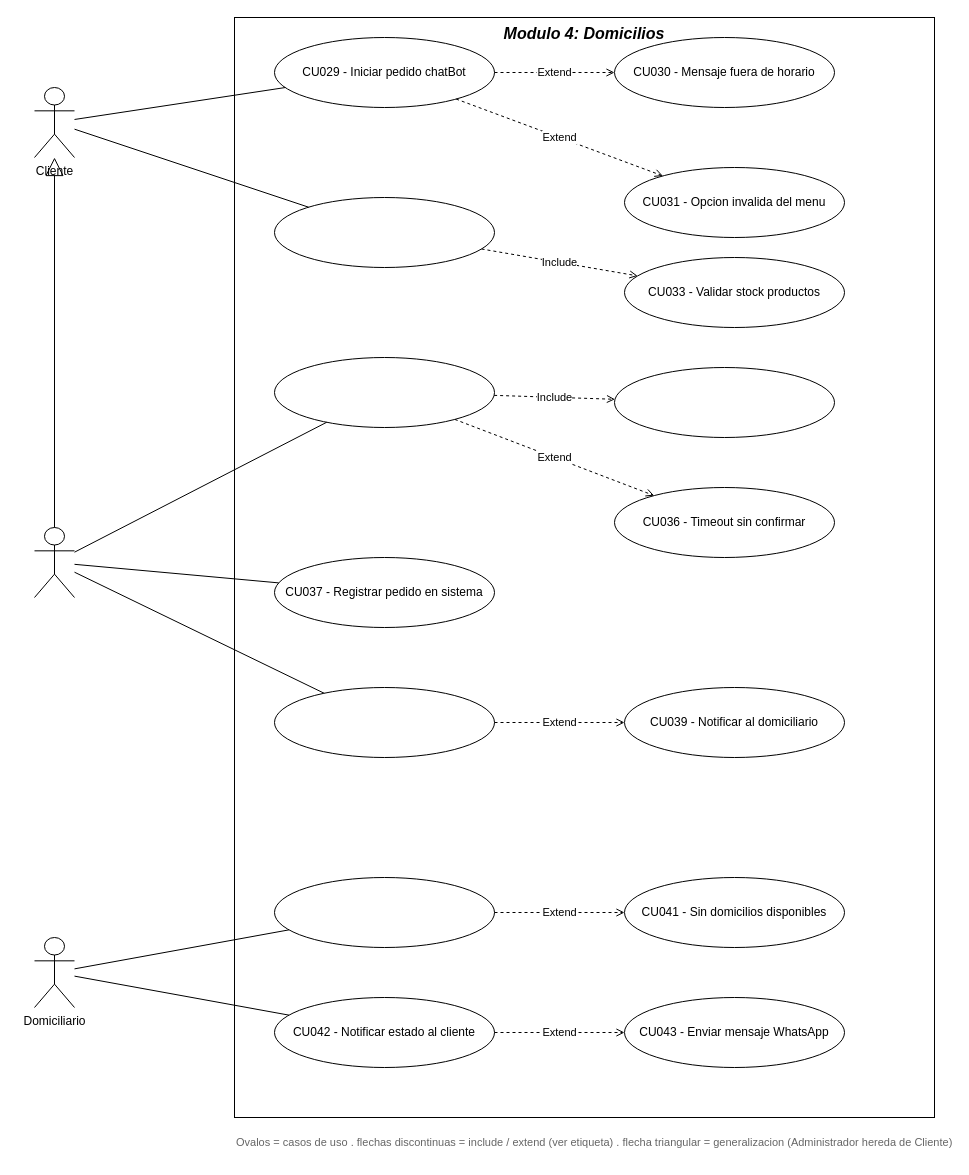
Some shapes in this 969 by 1175 pixel diagram are drawn without their labels. Each missing label, with the centre of its shape:
"Administrador" goes at point (54, 562).
"CU032 - Consultar catalogo chatBot" goes at point (384, 232).
"CU034 - Confirmar pedido chatBot" goes at point (384, 392).
"CU035 - Mostrar resumen y total" goes at point (724, 402).
"CU038 - Asignar domiciliario" goes at point (384, 722).
"CU040 - Actualizar estado pedido" goes at point (384, 912).
